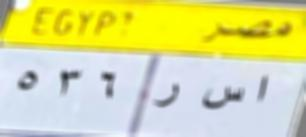3: (55, 61, 84, 100)
5: (15, 64, 41, 97)
6: (96, 63, 120, 108)
alif: (253, 72, 274, 105)
raa: (151, 73, 181, 116)
seen: (200, 80, 248, 116)
